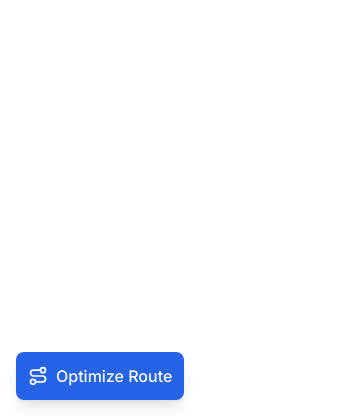
RoutePanel › Panel interaction › allows selecting different travel modes
This screenshot has width=353, height=416.
Click the button "Optimize Route".
click(100, 376)  # box [16,352,184,400]
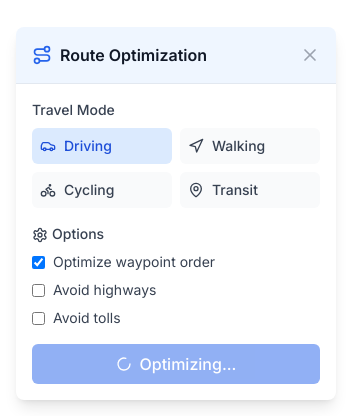
Click the button "Walking".
click(250, 146)  # box [180,128,320,164]
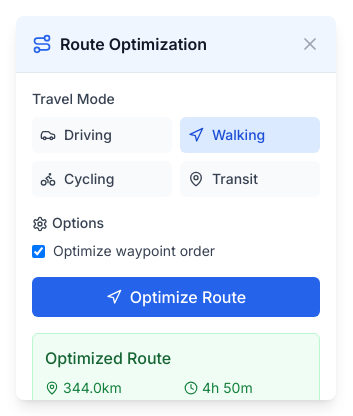
expect the button "Walking" has class "bg-blue-100": met, box [180,117,320,153]
